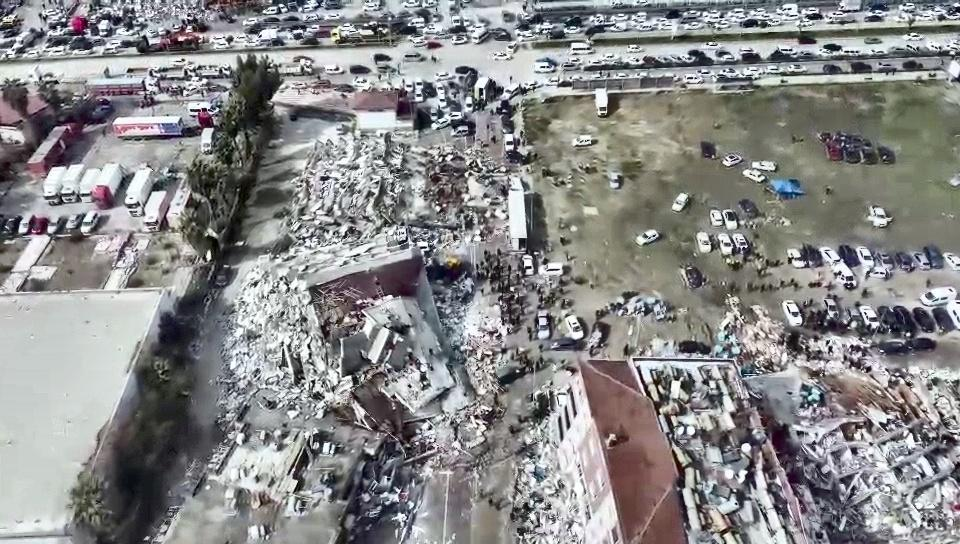kapali: (401, 250, 518, 499), (417, 135, 510, 250)
